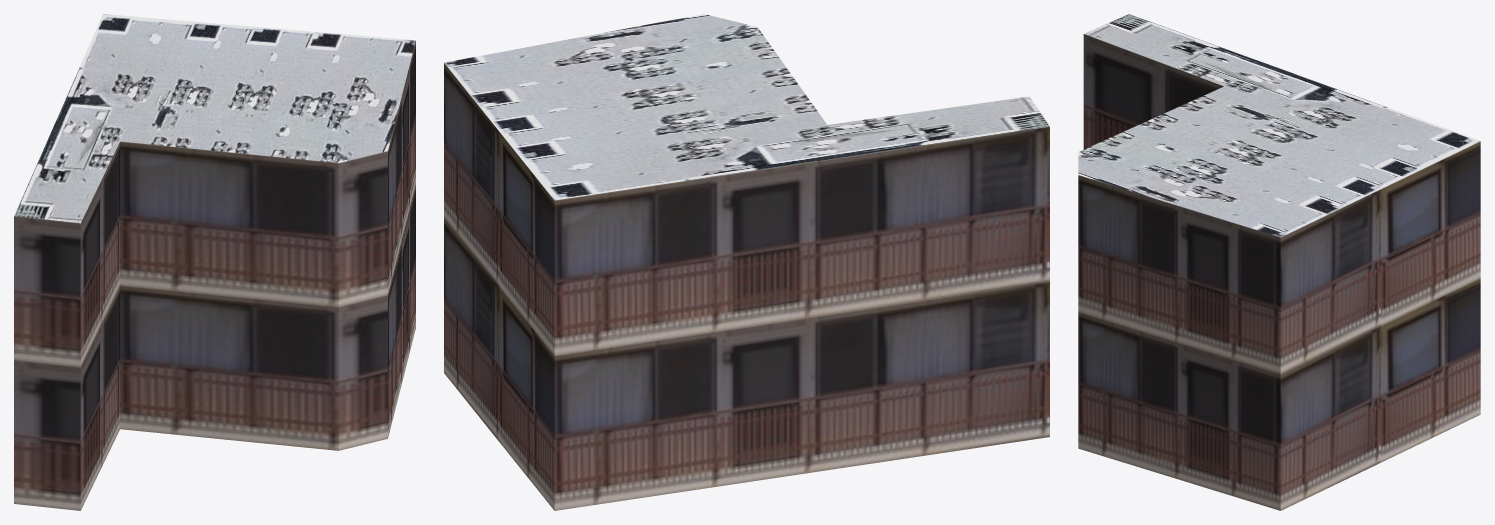
Rendered from ResTex__2991.fbx.
3 renders of one model, left to right at view 1: azimuth 30°, elevation 25°; view 2: azimuth 150°, elevation 25°; view 3: azimuth 270°, elevation 25°, orthographic. The views are drawn at different scales.
Parts seen in each view (by area): view 1: CityEngineMaterial_6_m, CityEngineMaterial_8_m; view 2: CityEngineMaterial_6_m, CityEngineMaterial_8_m; view 3: CityEngineMaterial_6_m, CityEngineMaterial_8_m.
Part boxes in pixels (x1,y1,x2,y2): CityEngineMaterial_6_m: (14, 41, 415, 510); CityEngineMaterial_8_m: (14, 14, 415, 223); CityEngineMaterial_6_m: (444, 63, 1049, 510); CityEngineMaterial_8_m: (444, 14, 1049, 200); CityEngineMaterial_6_m: (1078, 34, 1480, 510); CityEngineMaterial_8_m: (1078, 14, 1480, 237).
Size of the model in its own units: 10.51 by 6 by 8.
Materials: 2 (2 with a texture image).
